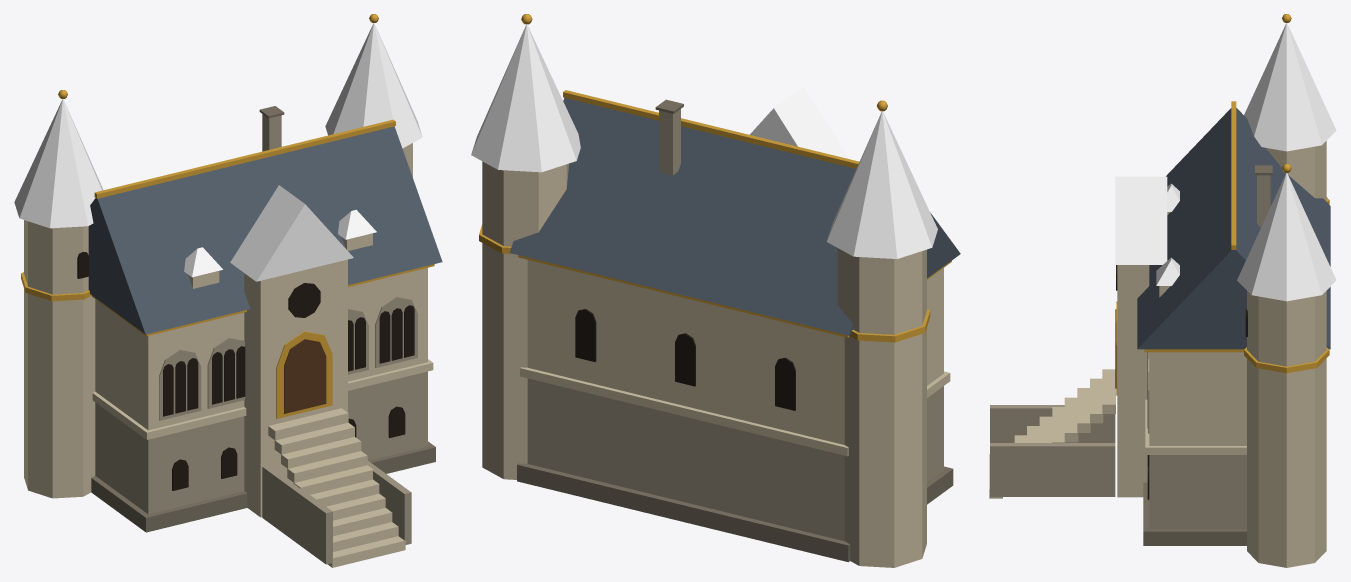
Rendered from castle_pfalz.glb.
3 renders of one model, left to right at view 1: azimuth 30°, elevation 25°; view 2: azimuth 150°, elevation 25°; view 3: azimuth 270°, elevation 25°, orthographic. The views are drawn at different scales.
Parts seen in each view (by area): view 1: castle_pfalz; view 2: castle_pfalz; view 3: castle_pfalz.
Boxes of the visible parts, x1,y1,x2,y2 form: castle_pfalz: (14, 14, 442, 567); castle_pfalz: (471, 14, 960, 567); castle_pfalz: (989, 14, 1336, 567).
Size of the model in its own units: 22.8 by 21.71 by 17.42.
